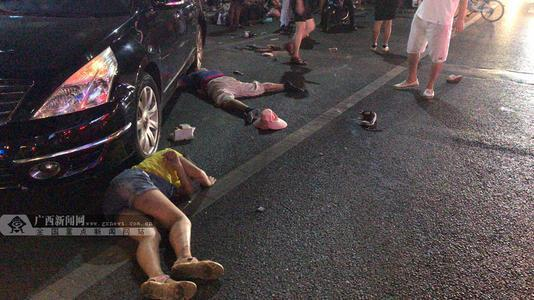Fall-Detected: (169, 53, 306, 139)
